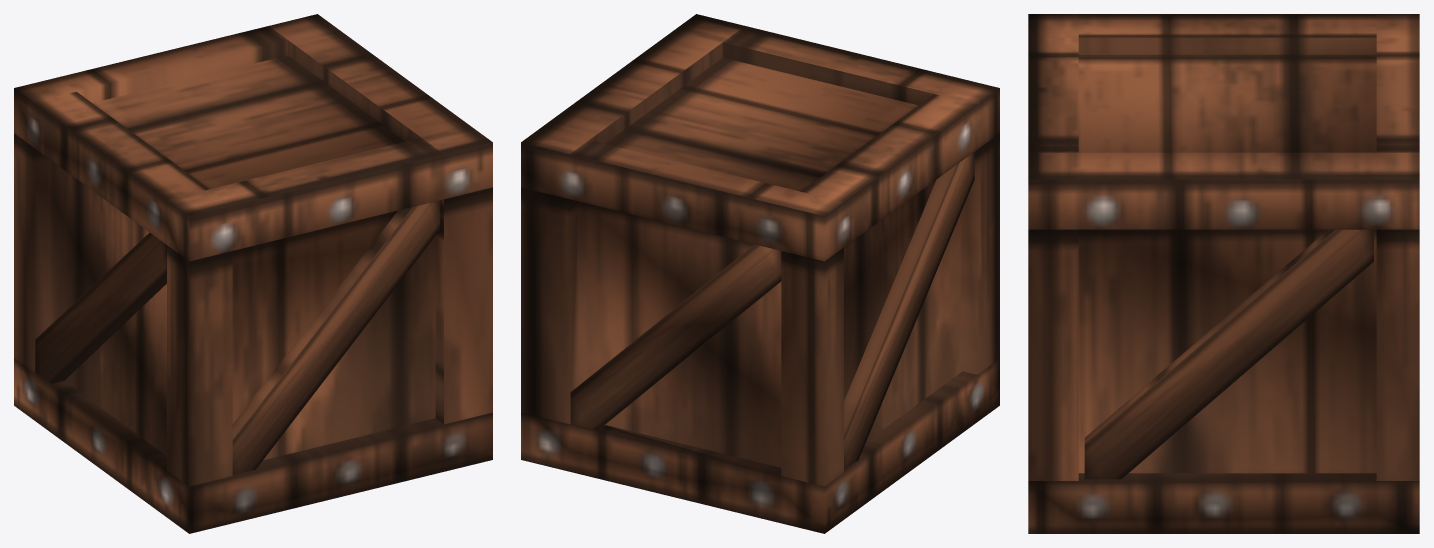
File: box_big_v2.glb
The picture shows the model from 3 angles, left to right: view 1: azimuth 30°, elevation 25°; view 2: azimuth 150°, elevation 25°; view 3: azimuth 270°, elevation 25°; orthographic projection. The views are drawn at different scales.
Parts seen in each view (by area): view 1: Cube.002; view 2: Cube.002; view 3: Cube.002.
Part boxes in pixels (x1,y1,x2,y2): Cube.002: (14,14,492,533); Cube.002: (521,14,999,533); Cube.002: (1028,14,1419,533).
Bounding box in the file's own units: 3.83 × 3.83 × 3.83.
1 material, 1 textured.
